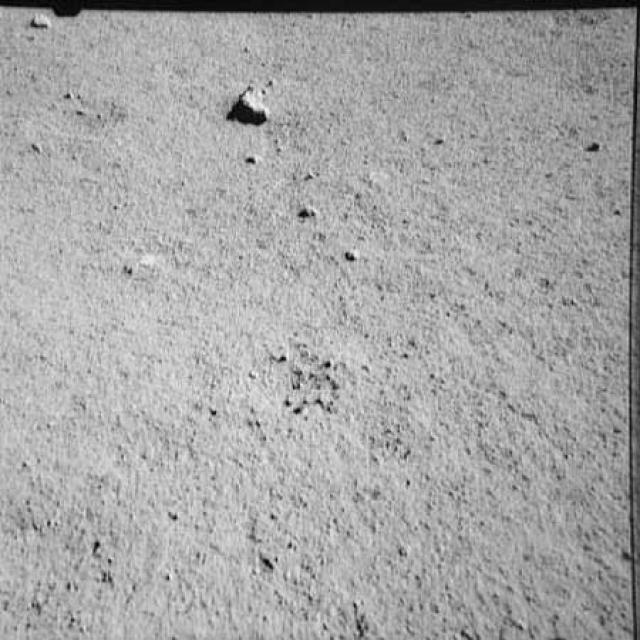rock: (224, 87, 282, 128)
